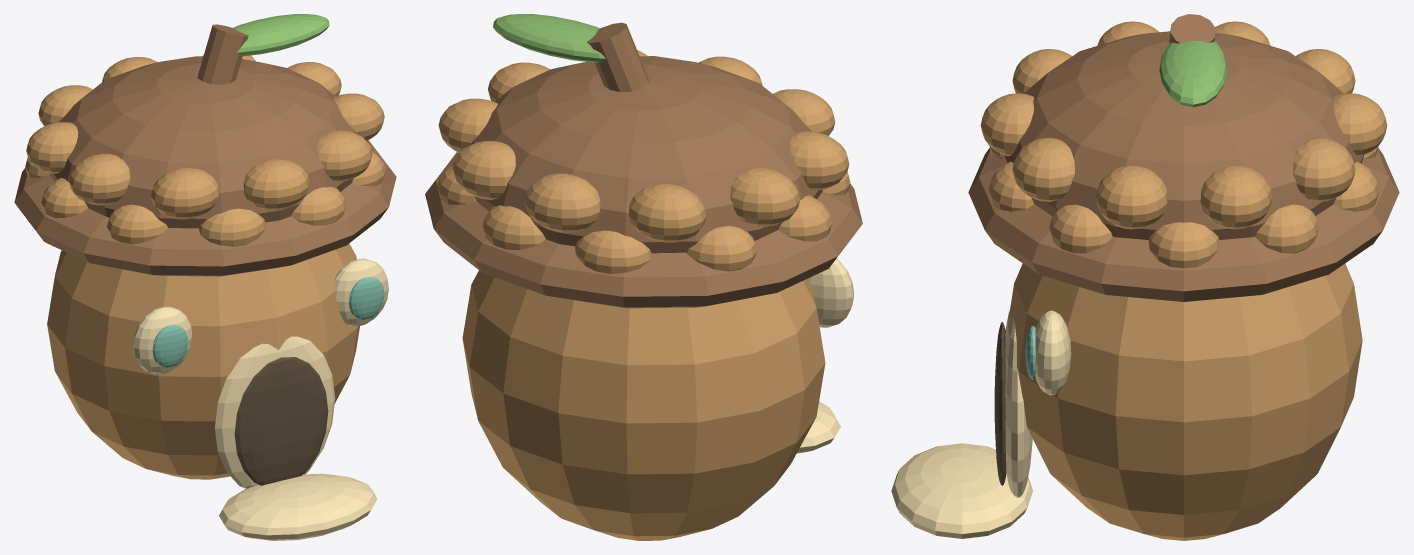
The model's file is AntAcornHome.fbx.
The picture shows the model from 3 angles, left to right: view 1: azimuth 30°, elevation 25°; view 2: azimuth 150°, elevation 25°; view 3: azimuth 270°, elevation 25°; orthographic projection. The views are drawn at different scales.
Visible parts, largest first — view 1: Acorn body, Cap dome, Cap brim, Round doorway, Doorstep, Round door frame, Carved cap scale.016, Carved cap scale.017, Stem leaf, Carved cap scale.015, Carved cap scale.018, Curved stem (+14 smaller); view 2: Acorn body, Cap dome, Cap brim, Carved cap scale.013, Stem leaf, Carved cap scale.012, Carved cap scale.014, Carved cap scale.011, Curved stem, Carved cap scale.015, Carved cap scale.003, Carved cap scale.004 (+9 smaller); view 3: Acorn body, Cap dome, Cap brim, Doorstep, Stem leaf, Carved cap scale.010, Carved cap scale.019, Round door frame, Carved cap scale.011, Carved cap scale.018, Carved cap scale, Round window.001 (+12 smaller).
Boxes of the visible parts, <box> form: Acorn body: <box>47,243,359,479</box>; Cap dome: <box>49,56,355,228</box>; Cap brim: <box>14,140,396,276</box>; Round doorway: <box>234,357,328,485</box>; Doorstep: <box>219,473,377,540</box>; Round door frame: <box>215,336,335,488</box>; Carved cap scale.016: <box>151,168,218,219</box>; Carved cap scale.017: <box>243,158,309,210</box>; Stem leaf: <box>233,14,329,56</box>; Carved cap scale.015: <box>69,153,130,205</box>; Carved cap scale.018: <box>317,130,372,181</box>; Curved stem: <box>197,24,248,84</box>; Acorn body: <box>462,270,825,540</box>; Cap dome: <box>471,56,822,253</box>; Cap brim: <box>425,152,862,308</box>; Carved cap scale.013: <box>628,183,706,242</box>; Stem leaf: <box>493,14,605,62</box>; Carved cap scale.012: <box>524,173,600,232</box>; Carved cap scale.014: <box>730,167,799,226</box>; Carved cap scale.011: <box>452,141,515,199</box>; Curved stem: <box>587,22,648,91</box>; Carved cap scale.015: <box>790,131,849,190</box>; Carved cap scale.003: <box>575,230,651,274</box>; Carved cap scale.004: <box>686,226,756,271</box>; Acorn body: <box>1008,263,1362,540</box>; Cap dome: <box>1004,31,1364,239</box>; Cap brim: <box>968,148,1399,301</box>; Doorstep: <box>891,443,1032,538</box>; Stem leaf: <box>1159,40,1226,107</box>; Carved cap scale.010: <box>1200,165,1272,229</box>; Carved cap scale.019: <box>1095,165,1167,229</box>; Round door frame: <box>1005,310,1032,497</box>; Carved cap scale.011: <box>1293,137,1355,201</box>; Carved cap scale.018: <box>1012,137,1074,201</box>; Carved cap scale: <box>1148,222,1219,268</box>; Round window.001: <box>1035,310,1071,395</box>.
Size of the model in its own units: 152 by 186 by 165.
